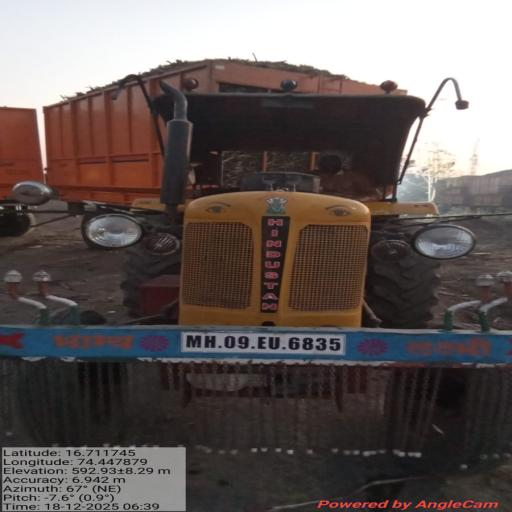number_plate: (181, 332, 345, 355)
